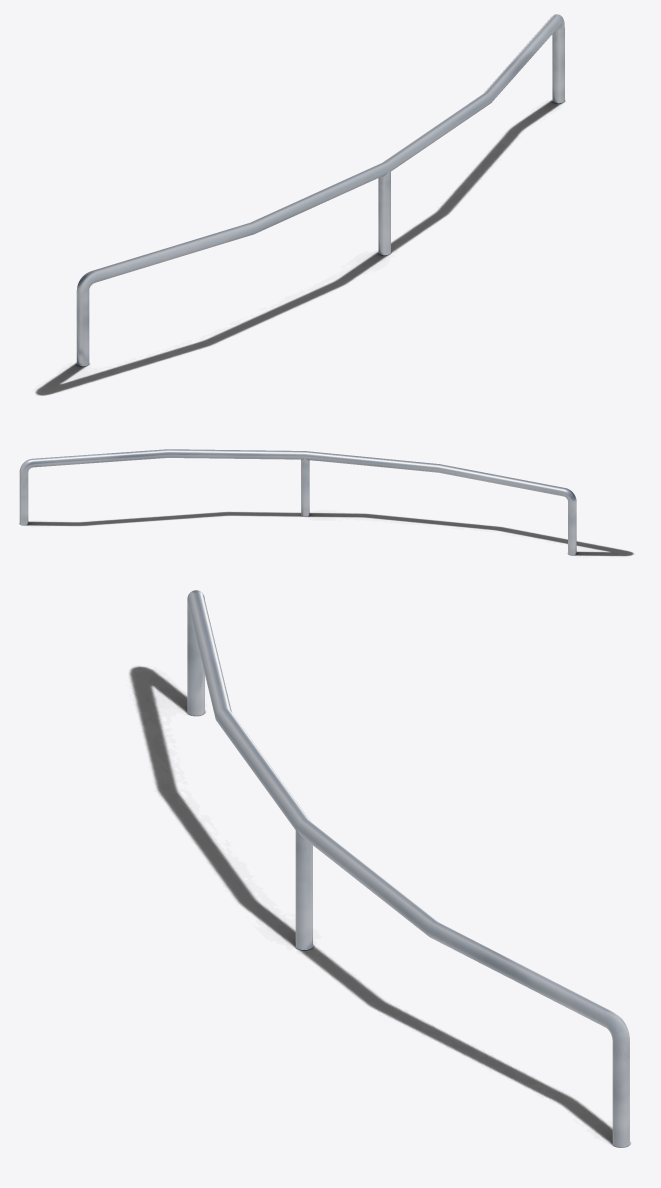
File: rail-c-300.gltf
The picture shows the model from 3 angles, top to bottom: view 1: azimuth 30°, elevation 25°; view 2: azimuth 150°, elevation 25°; view 3: azimuth 270°, elevation 25°; orthographic projection. The views are drawn at different scales.
Parts seen in each view (by area): view 1: SK0165_#Rail_C_300.001, Schatten; view 2: SK0165_#Rail_C_300.001, Schatten; view 3: SK0165_#Rail_C_300.001, Schatten.
Boxes of the visible parts, left/top/right/bottom form: SK0165_#Rail_C_300.001: left=76, top=14, right=564, bottom=366; Schatten: left=35, top=100, right=565, bottom=395; SK0165_#Rail_C_300.001: left=19, top=449, right=576, bottom=555; Schatten: left=26, top=512, right=633, bottom=555; SK0165_#Rail_C_300.001: left=187, top=590, right=629, bottom=1147; Schatten: left=129, top=666, right=630, bottom=1147.
Bounding box in the file's own units: 3.48 × 0.4 × 1.79.
2 materials, 2 textured.
